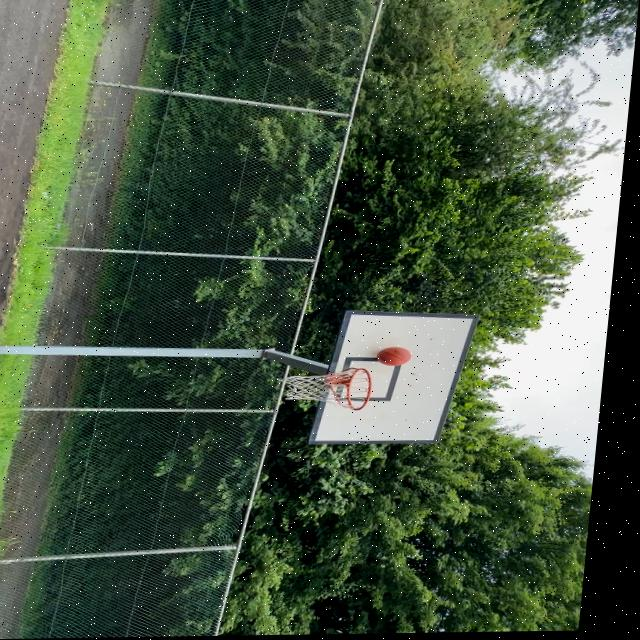rebound_hit: (374, 345, 414, 368)
